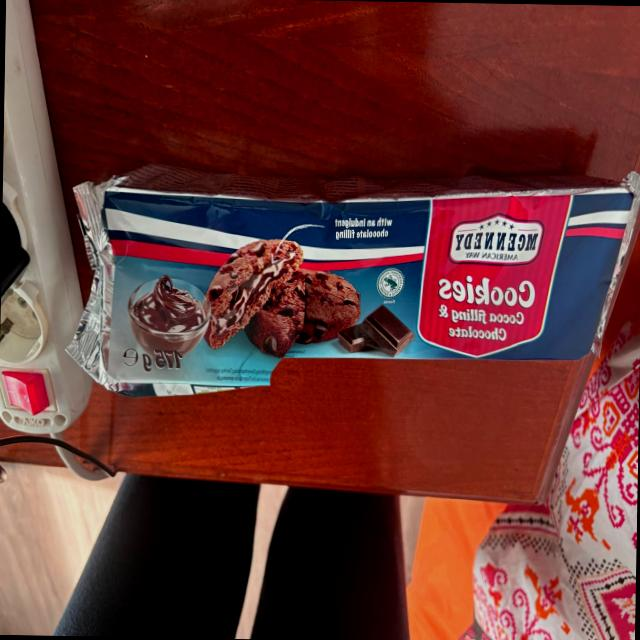damaged_package: (62, 162, 634, 404)
